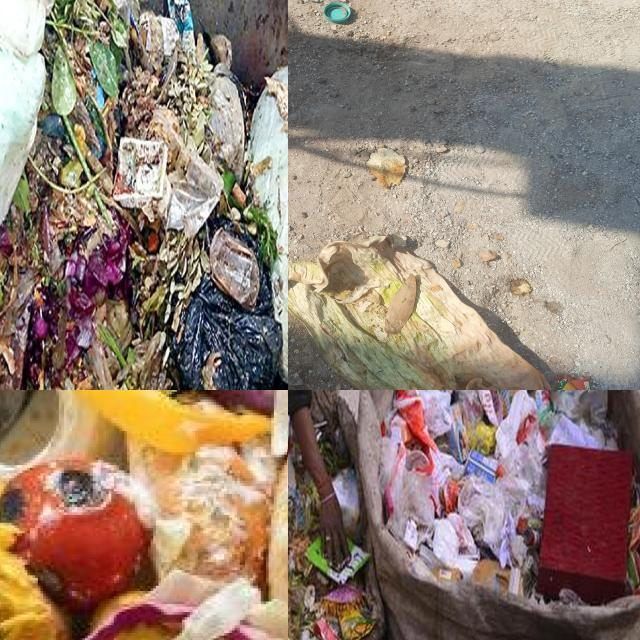Background: (288, 0, 640, 390)
Disposable: (209, 228, 260, 310), (113, 140, 168, 208)
Garbage: (0, 390, 288, 640), (375, 390, 640, 603), (288, 390, 376, 640)
Plastic: (323, 2, 351, 23)
Plastic_Bag: (379, 390, 546, 590), (175, 267, 282, 390), (211, 75, 245, 182), (548, 414, 603, 449), (339, 608, 375, 640)
Plastic_bottle: (0, 390, 123, 476)
Plastic_wraper: (305, 537, 370, 584), (167, 0, 195, 57), (627, 478, 640, 594)
Tetrapack: (551, 390, 608, 426)
